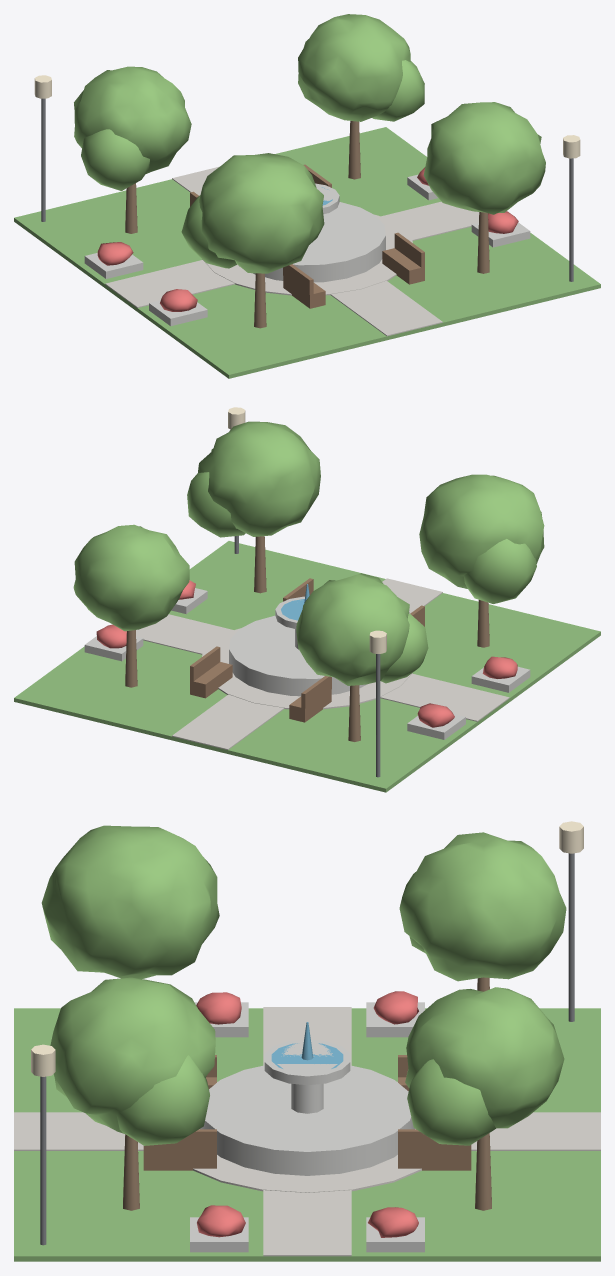
File: park.glb
3 renders of one model, top to bottom at view 1: azimuth 30°, elevation 25°; view 2: azimuth 150°, elevation 25°; view 3: azimuth 270°, elevation 25°, orthographic. The views are drawn at different scales.
Parts seen in each view (by area): view 1: park; view 2: park; view 3: park.
Part boxes in pixels (bbox=[...]): park: bbox=[14, 14, 600, 378]; park: bbox=[14, 407, 600, 792]; park: bbox=[14, 821, 600, 1261].
Bounding box in the file's own units: 12 × 5.16 × 12.
